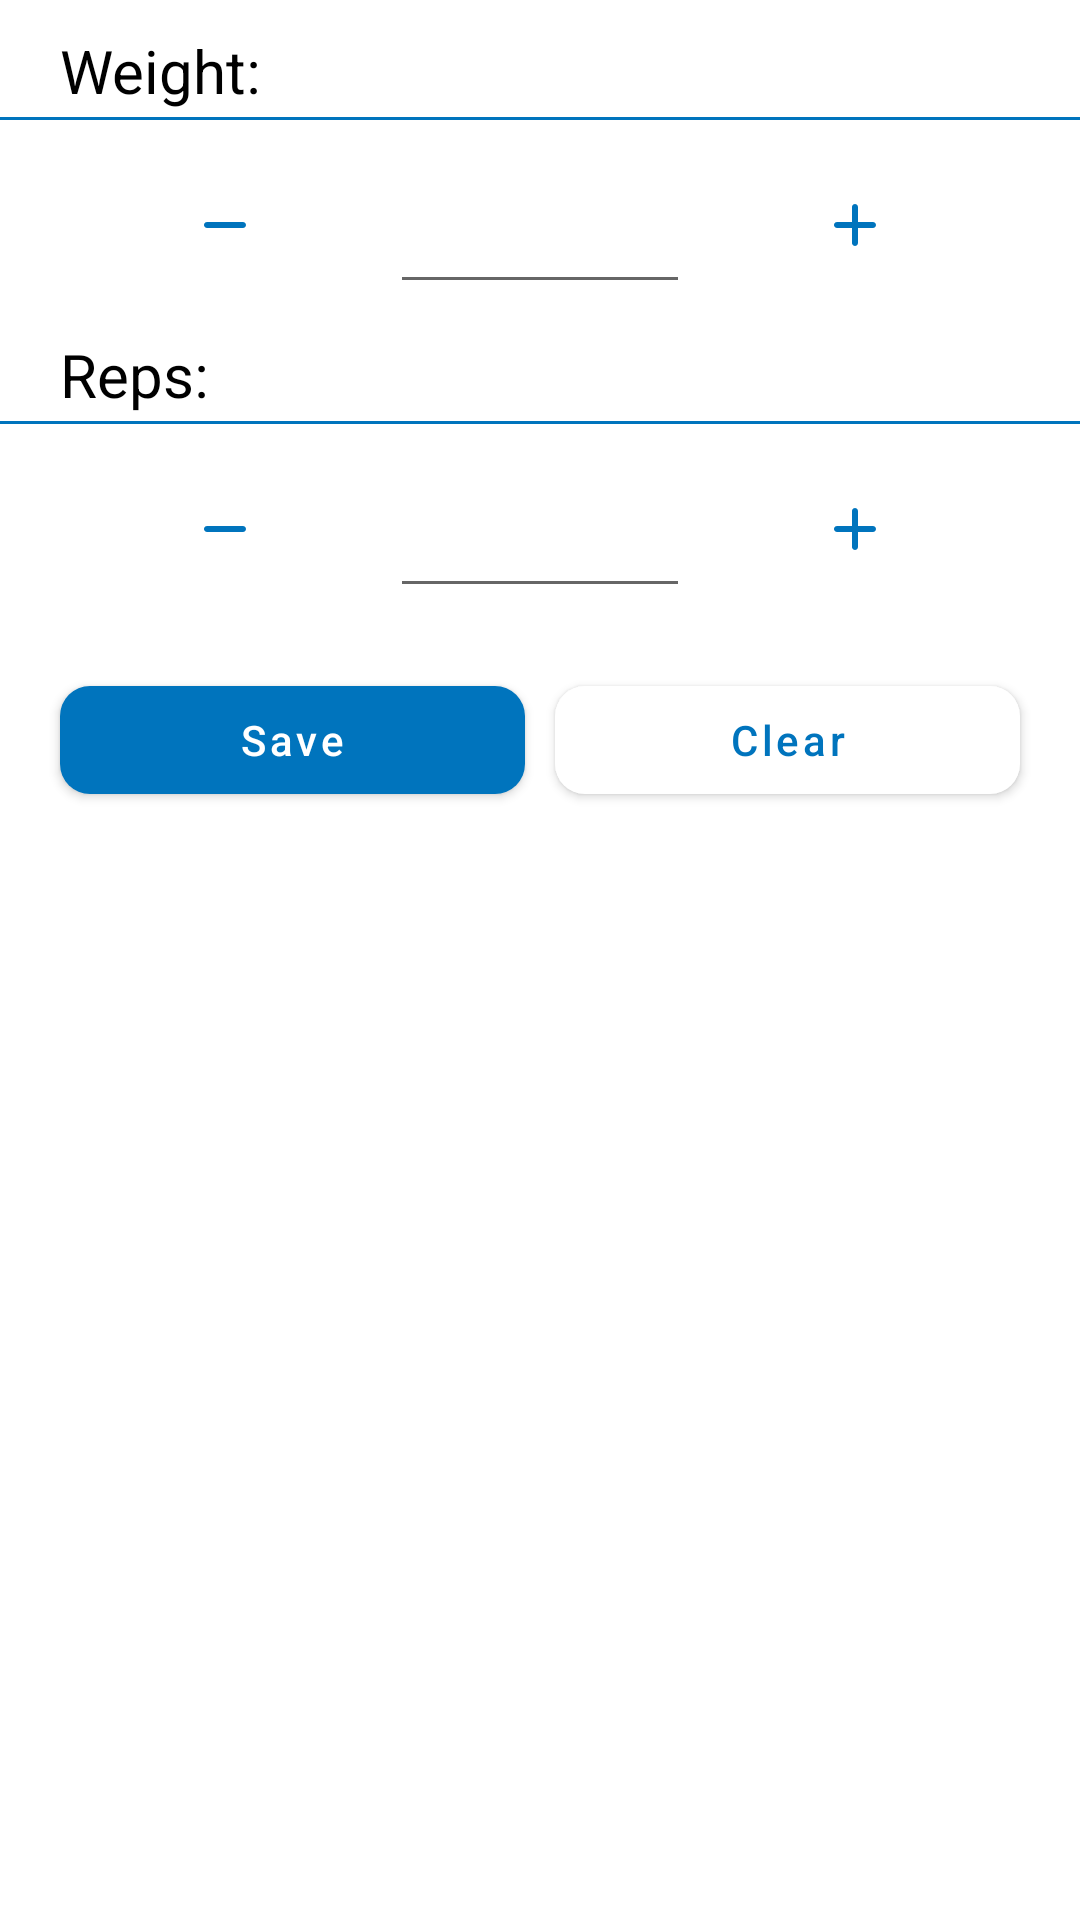

Named icons in this screenshot (1080*1920) and their centers, (x=x, y=y):
add: (x=855, y=225), (x=855, y=529)
